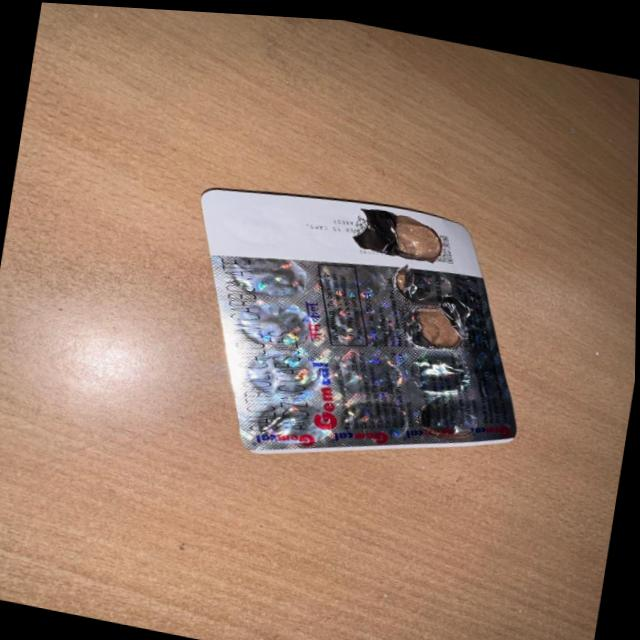medicine: (195, 182, 519, 456)
